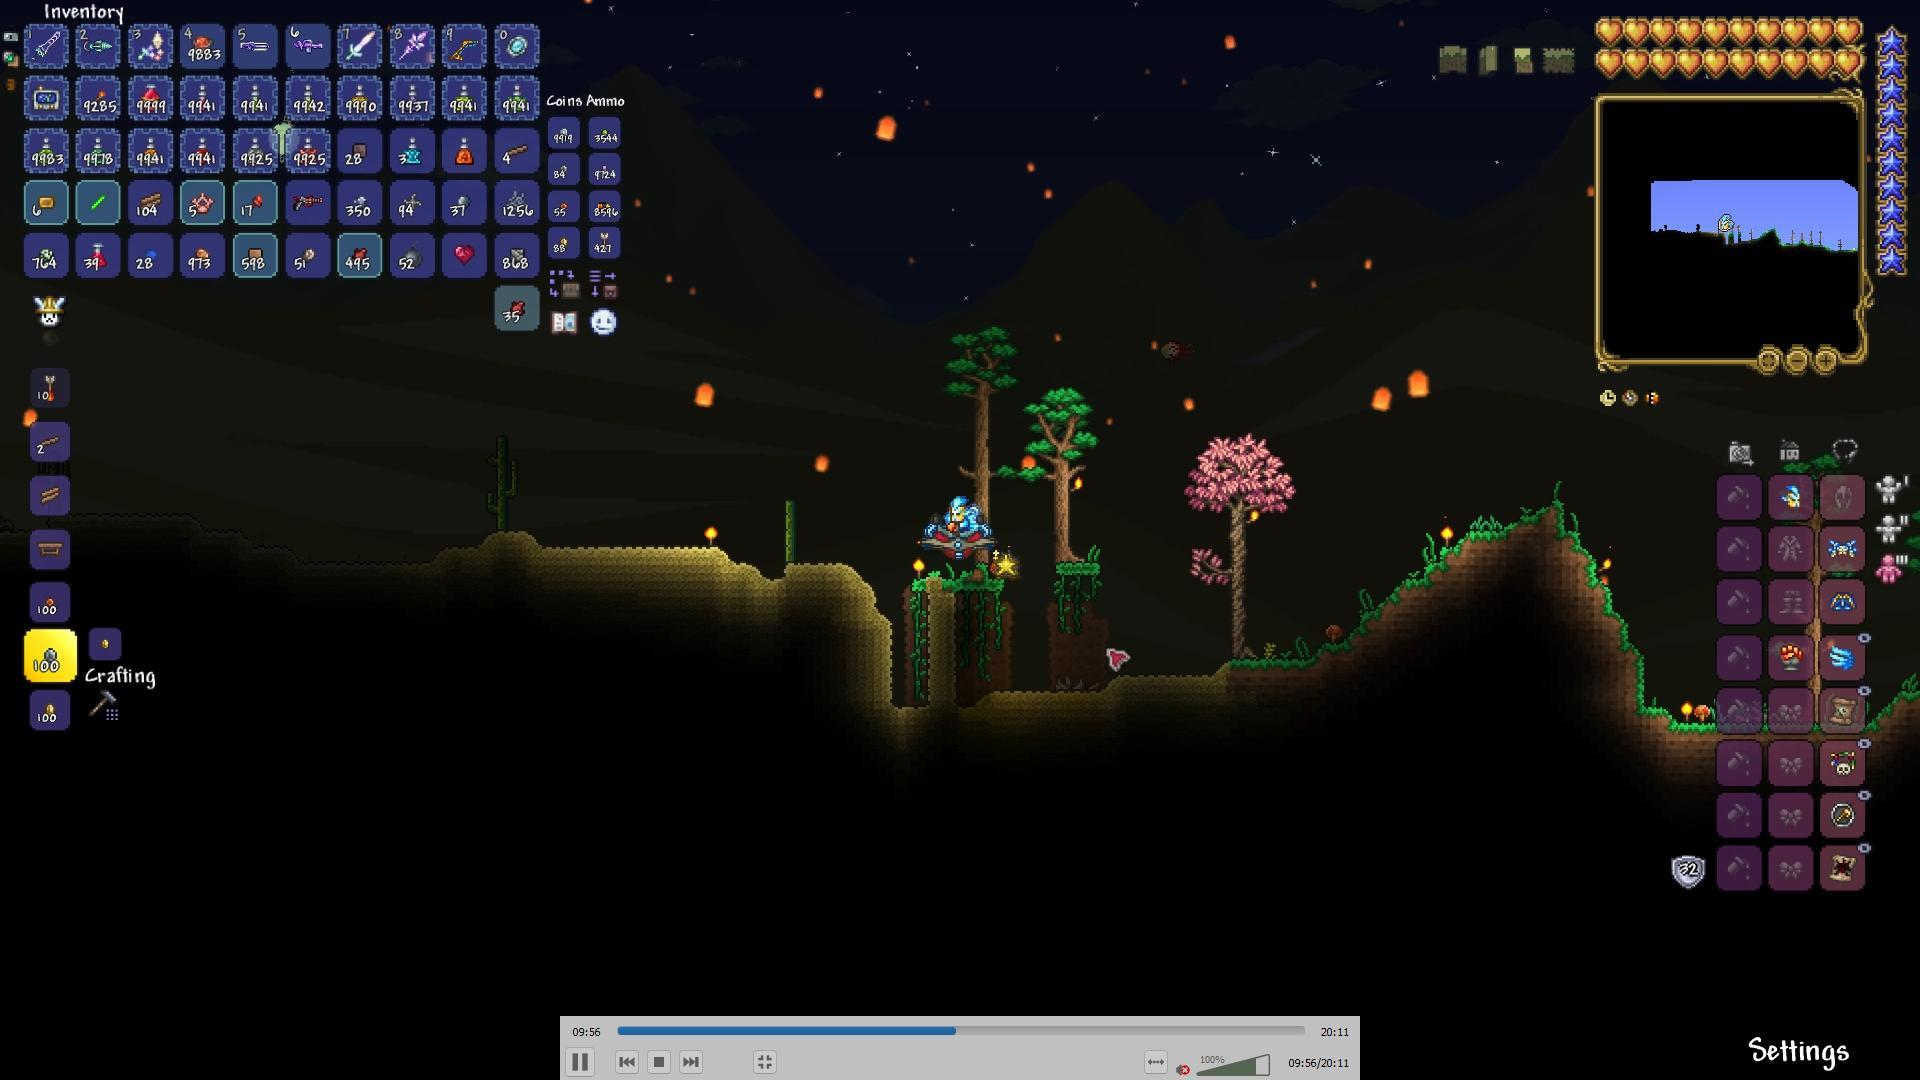mirror: (505, 32, 531, 61)
star: (993, 547, 1022, 578)
